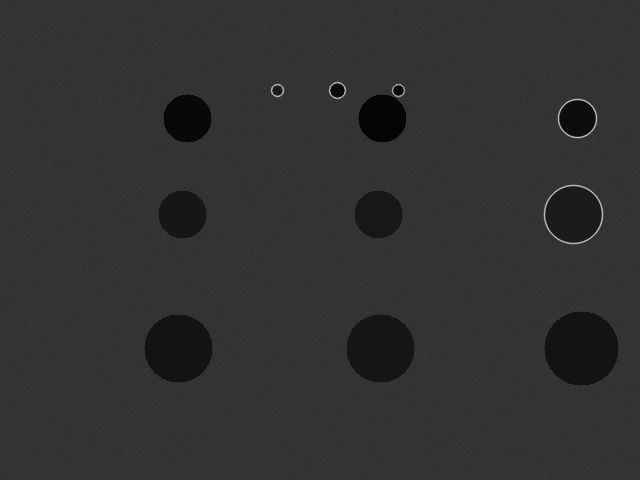hole: (544, 311, 618, 385), (144, 314, 212, 382), (346, 314, 414, 382), (544, 185, 602, 243), (163, 94, 211, 142), (358, 94, 406, 142), (158, 190, 206, 238), (354, 190, 402, 238), (558, 99, 596, 137), (329, 82, 345, 98), (271, 84, 283, 96), (392, 84, 404, 96)
